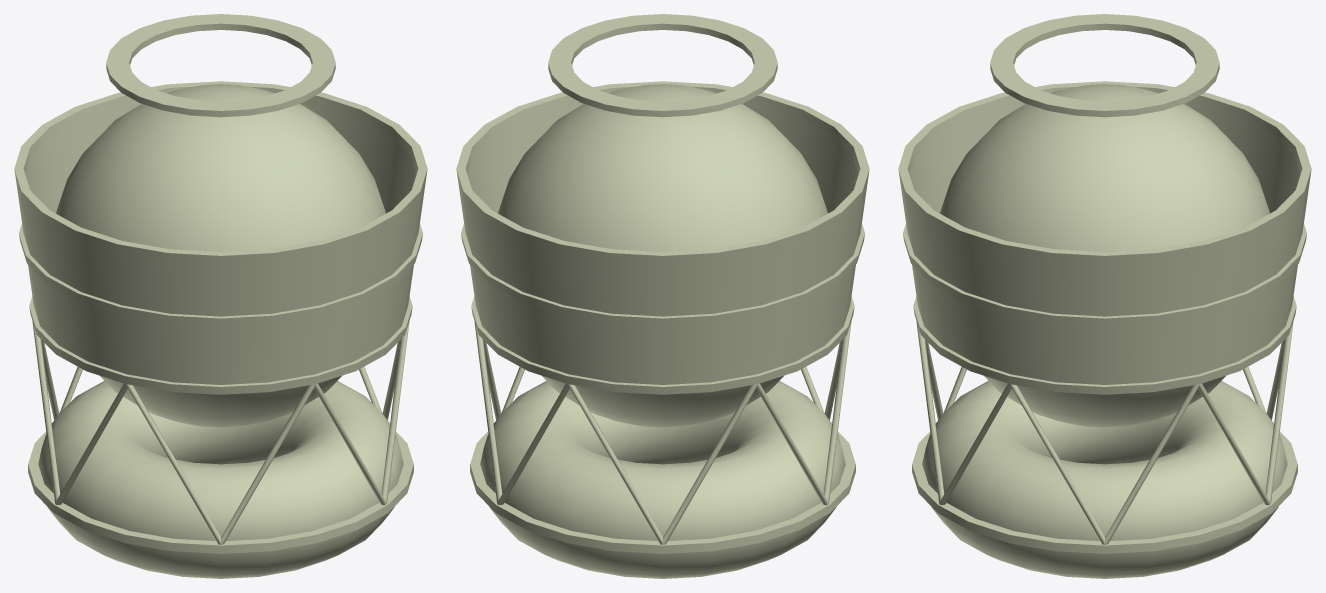
The picture shows the model from 3 angles, left to right: view 1: azimuth 30°, elevation 25°; view 2: azimuth 150°, elevation 25°; view 3: azimuth 270°, elevation 25°; orthographic projection.
Parts seen in each view (by area): view 1: sphere4, sphere4_sep3, sphere4_sep18, sphere4_sep5, sphere4_sep4, sphere4_sep13, sphere4_sep17, sphere4_sep9, sphere4_sep16, sphere4_sep15, sphere4_sep12; view 2: sphere4, sphere4_sep3, sphere4_sep18, sphere4_sep5, sphere4_sep4, sphere4_sep15, sphere4_sep10, sphere4_sep7, sphere4_sep11, sphere4_sep6, sphere4_sep9; view 3: sphere4, sphere4_sep3, sphere4_sep18, sphere4_sep5, sphere4_sep4, sphere4_sep6, sphere4_sep8, sphere4_sep12, sphere4_sep14, sphere4_sep13, sphere4_sep7.
Part boxes in pixels (box(x1,y1,x2,y2)): sphere4: box(14, 81, 427, 394); sphere4_sep3: box(38, 381, 403, 578); sphere4_sep18: box(56, 84, 385, 427); sphere4_sep5: box(106, 14, 335, 117); sphere4_sep4: box(28, 431, 413, 553); sphere4_sep13: box(381, 321, 409, 503); sphere4_sep17: box(221, 384, 315, 544); sphere4_sep9: box(32, 321, 60, 503); sphere4_sep16: box(126, 384, 220, 544); sphere4_sep15: box(55, 383, 127, 505); sphere4_sep12: box(314, 383, 386, 505); sphere4: box(456, 81, 869, 394); sphere4_sep3: box(480, 381, 845, 578); sphere4_sep18: box(498, 84, 827, 427); sphere4_sep5: box(548, 14, 777, 117); sphere4_sep4: box(470, 431, 855, 553); sphere4_sep15: box(823, 321, 851, 503); sphere4_sep10: box(663, 384, 757, 544); sphere4_sep7: box(474, 321, 502, 503); sphere4_sep11: box(568, 384, 662, 544); sphere4_sep6: box(497, 383, 569, 505); sphere4_sep9: box(756, 383, 828, 505); sphere4: box(898, 81, 1311, 394); sphere4_sep3: box(922, 381, 1287, 578); sphere4_sep18: box(940, 84, 1269, 427); sphere4_sep5: box(990, 14, 1219, 117); sphere4_sep4: box(912, 431, 1297, 553); sphere4_sep6: box(1265, 321, 1293, 503); sphere4_sep8: box(1105, 384, 1199, 544); sphere4_sep12: box(916, 321, 944, 503); sphere4_sep14: box(1010, 384, 1104, 544); sphere4_sep13: box(939, 383, 1011, 505); sphere4_sep7: box(1198, 383, 1270, 505).
Size of the model in its own units: 2.25 by 2.75 by 2.25.
